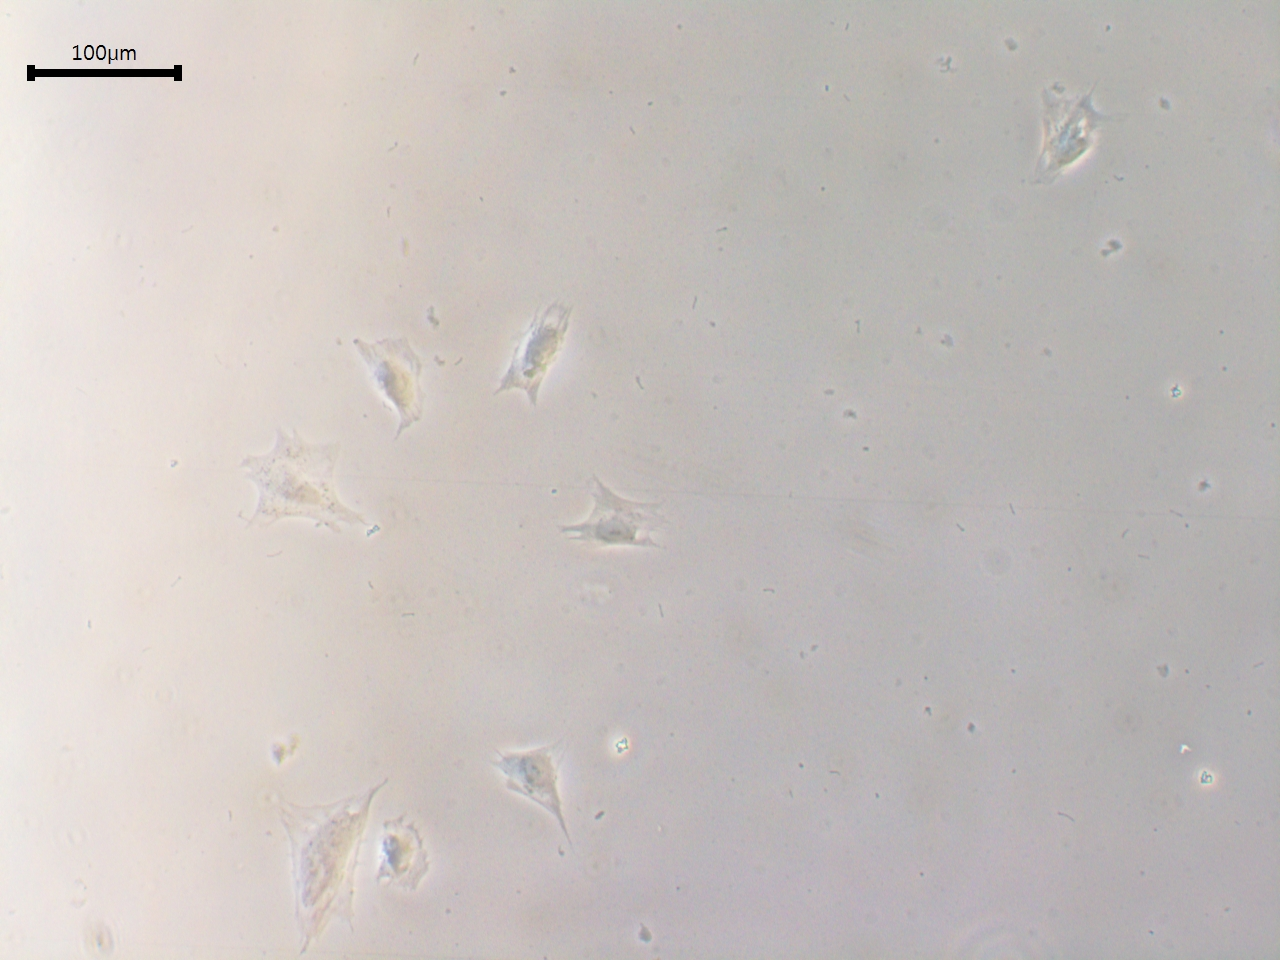medium-spread: (237, 425, 376, 553)
small-polygonal: (474, 732, 609, 847)
small-spread: (555, 474, 687, 582), (344, 329, 451, 444), (494, 297, 587, 405), (367, 813, 446, 905)
